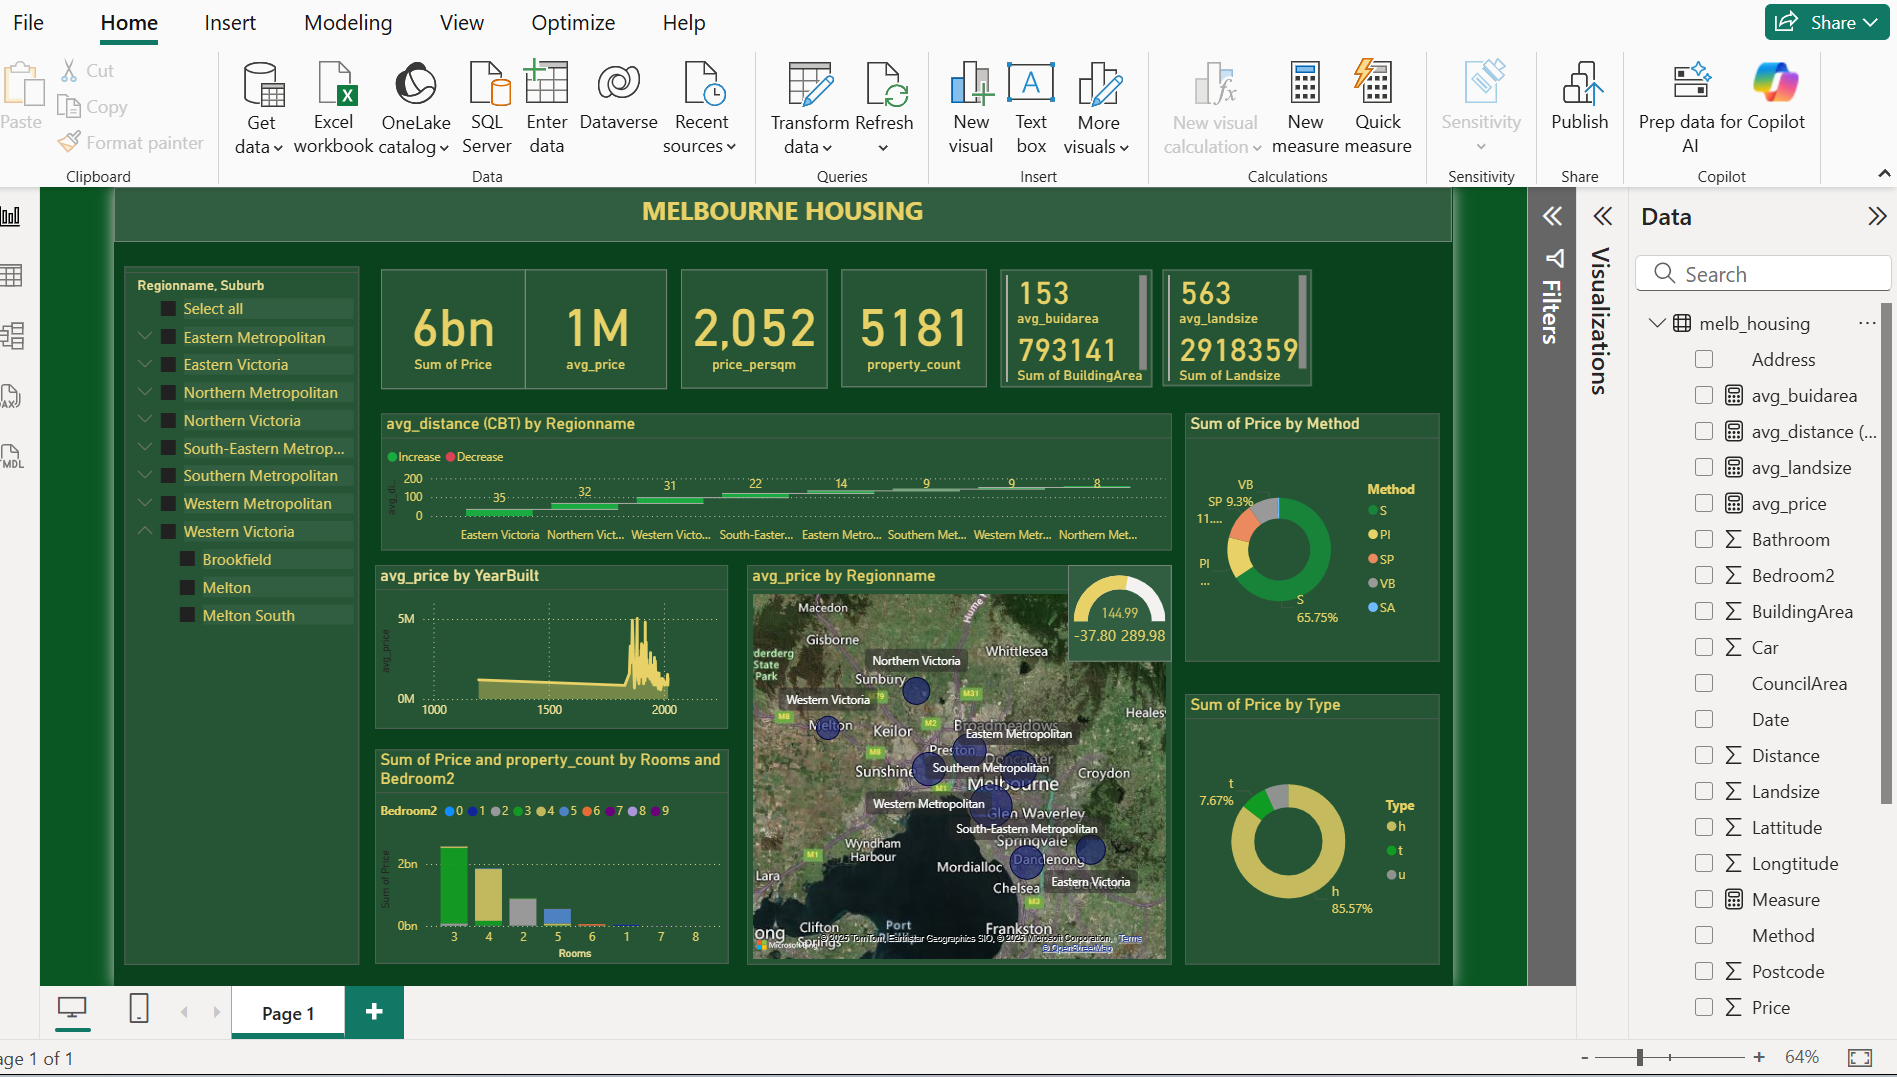

What the dashboard file says about the page in this screenshot:
{"tool":"powerbi","page":{"name":"Page 1","canvas":[1395,833],"ordinal":0},"visuals":[{"type":"donutChart","fields":{"Category":["melb_housing.Type"],"Y":["Sum(melb_housing.Price)"]},"box":[1116.6,528.2,265.5,282.3],"z":0},{"type":"slicer","fields":{"Values":["melb_housing.Regionname","melb_housing.Suburb"]},"box":[11.2,82.5,244.6,728.1],"z":1000},{"type":"donutChart","fields":{"Y":["Sum(melb_housing.Price)"],"Category":["melb_housing.Method"]},"box":[1116.6,236.2,265.5,258.5],"z":2000},{"type":"card","fields":{"Values":["Sum(melb_housing.Price)"]},"box":[277.8,86.5,150.7,124.5],"z":3000},{"type":"card","fields":{"Values":["melb_housing.property_count"]},"box":[758.4,85.9,151.4,122.8],"z":4000},{"type":"columnChart","fields":{"Y":["Sum(melb_housing.Price)"],"Category":["melb_housing.Rooms"],"Series":["melb_housing.Bedroom2"]},"box":[272.5,586.9,368.9,223.6],"z":5000},{"type":"lineChart","fields":{"Y":["melb_housing.avg_price"],"Category":["melb_housing.YearBuilt"]},"box":[272.8,394.2,368.3,170.5],"z":6000},{"type":"map","title":"avg_price by Regionname","fields":{"Category":["melb_housing.Regionname"],"X":["Avg(melb_housing.Longtitude)"],"Y":["Avg(melb_housing.Lattitude)"],"Size":["melb_housing.avg_price"]},"box":[659.6,394.1,443,416.4],"z":7000},{"type":"multiRowCard","fields":{"Values":["melb_housing.avg_buidarea","Sum(melb_housing.BuildingArea)"]},"box":[924.8,85.9,158.2,122.8],"z":8000},{"type":"card","fields":{"Values":["melb_housing.avg_price"]},"box":[428.5,86.5,148.1,124.5],"z":9000},{"type":"waterfallChart","fields":{"Y":["melb_housing.avg_distance"],"Category":["melb_housing.Regionname"]},"box":[278.1,236.2,824.5,142.5],"z":10000},{"type":"textbox","box":[0,0,1394.7,57.3],"z":11000},{"type":"card","fields":{"Values":["melb_housing.price_persqm"]},"box":[590.6,85.9,152.8,124.1],"z":12000},{"type":"gauge","fields":{"Y":["Avg(melb_housing.Longtitude)"],"MinValue":["Avg(melb_housing.Lattitude)"]},"box":[994.3,394.2,107.8,100.9],"z":13000},{"type":"multiRowCard","fields":{"Values":["melb_housing.avg_landsize","Sum(melb_housing.Landsize)"]},"box":[1092.5,85.9,155.5,121.4],"z":14000}]}

Visuals, with their boxes on the page's 1395x833 design canvas (x1, y1, x2, y2). These are canvas units, not pixel positions in the 1897x1077 screenshot, which may show the page scaled, cropped or inside an application window:
donutChart - melb_housing.Type x Sum(melb_housing.Price): pyautogui.locateOnScreen(1117, 528, 1382, 810)
slicer - melb_housing.Regionname x melb_housing.Suburb: pyautogui.locateOnScreen(11, 82, 256, 811)
donutChart - Sum(melb_housing.Price) x melb_housing.Method: pyautogui.locateOnScreen(1117, 236, 1382, 495)
card - Sum(melb_housing.Price): pyautogui.locateOnScreen(278, 86, 428, 211)
card - melb_housing.property_count: pyautogui.locateOnScreen(758, 86, 910, 209)
columnChart - Sum(melb_housing.Price) x melb_housing.Rooms: pyautogui.locateOnScreen(272, 587, 641, 810)
lineChart - melb_housing.avg_price x melb_housing.YearBuilt: pyautogui.locateOnScreen(273, 394, 641, 565)
"avg_price by Regionname" map: pyautogui.locateOnScreen(660, 394, 1103, 810)
multiRowCard - melb_housing.avg_buidarea x Sum(melb_housing.BuildingArea): pyautogui.locateOnScreen(925, 86, 1083, 209)
card - melb_housing.avg_price: pyautogui.locateOnScreen(428, 86, 577, 211)
waterfallChart - melb_housing.avg_distance x melb_housing.Regionname: pyautogui.locateOnScreen(278, 236, 1103, 379)
textbox: pyautogui.locateOnScreen(0, 0, 1395, 57)
card - melb_housing.price_persqm: pyautogui.locateOnScreen(591, 86, 743, 210)
gauge - Avg(melb_housing.Longtitude) x Avg(melb_housing.Lattitude): pyautogui.locateOnScreen(994, 394, 1102, 495)
multiRowCard - melb_housing.avg_landsize x Sum(melb_housing.Landsize): pyautogui.locateOnScreen(1092, 86, 1248, 207)
